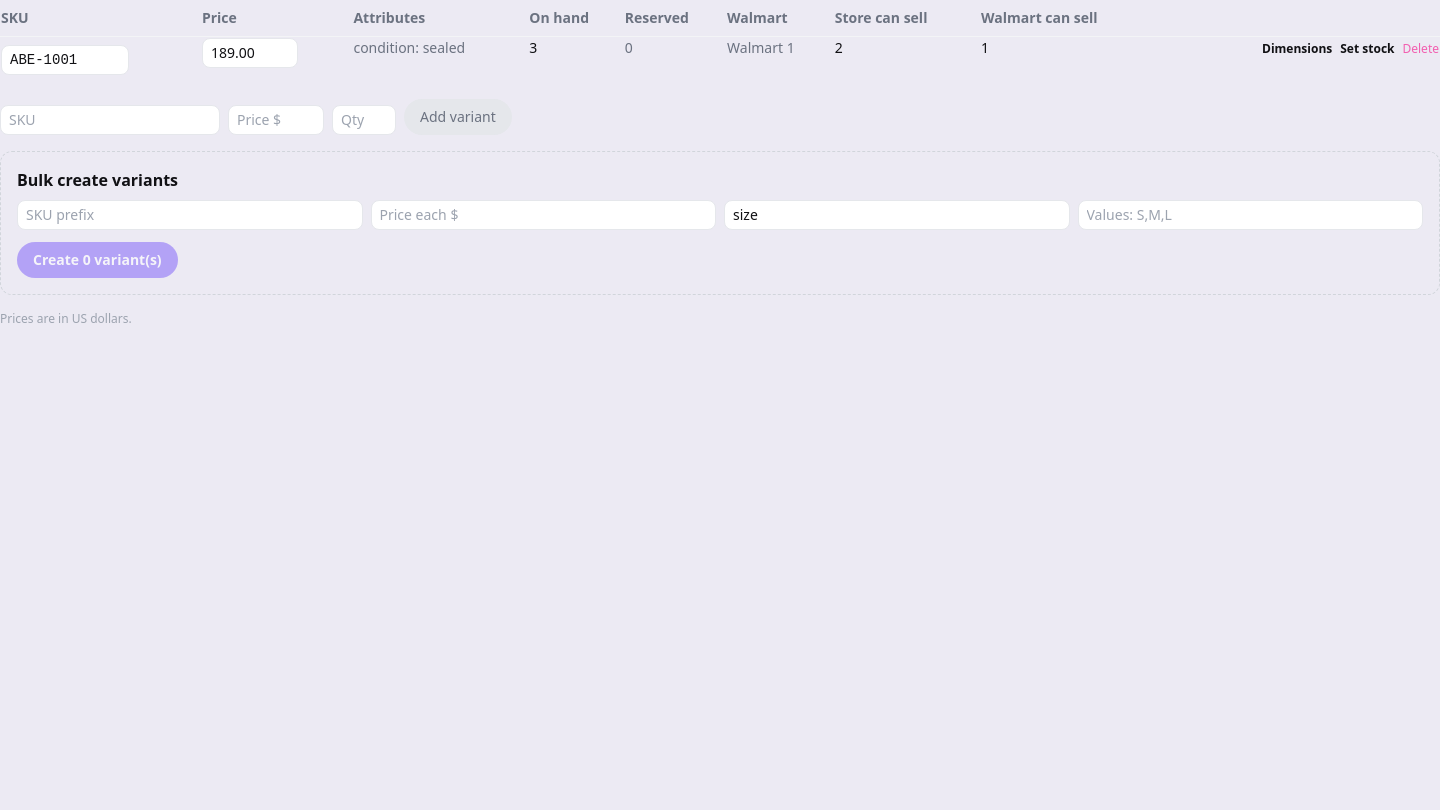
Test: VariantsTab › shows core's full message for STOCK_BELOW_RESERVED, not just the field hint
The width and height of the screenshot is (1440, 810).
Click the button "Set stock": coordinates (1367, 49) [1340,41,1395,57]
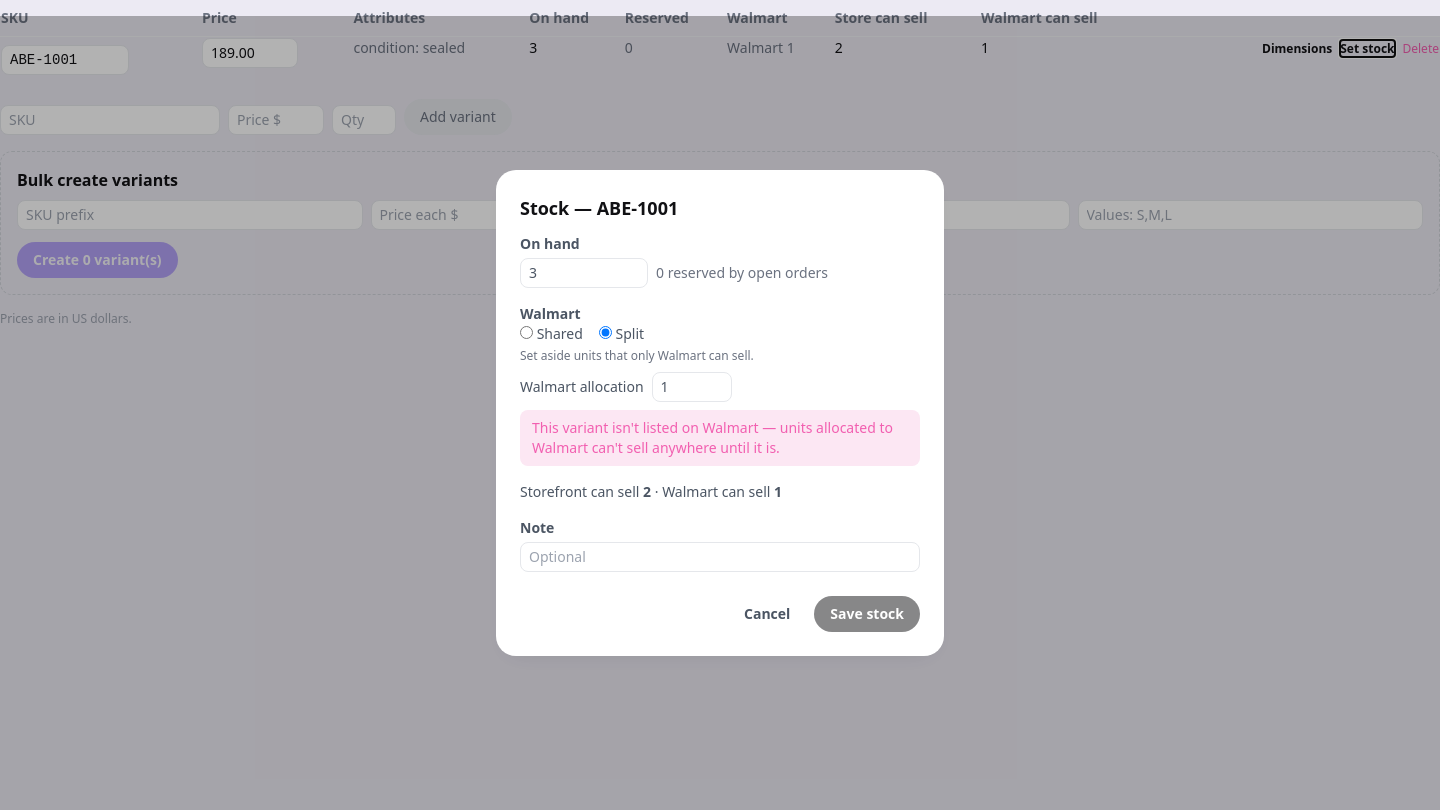
Note: Save stock is disabled until something changes.
Replace the text in the field labelled "On hand" with "1": coordinates (584, 273) [520,258,648,288]
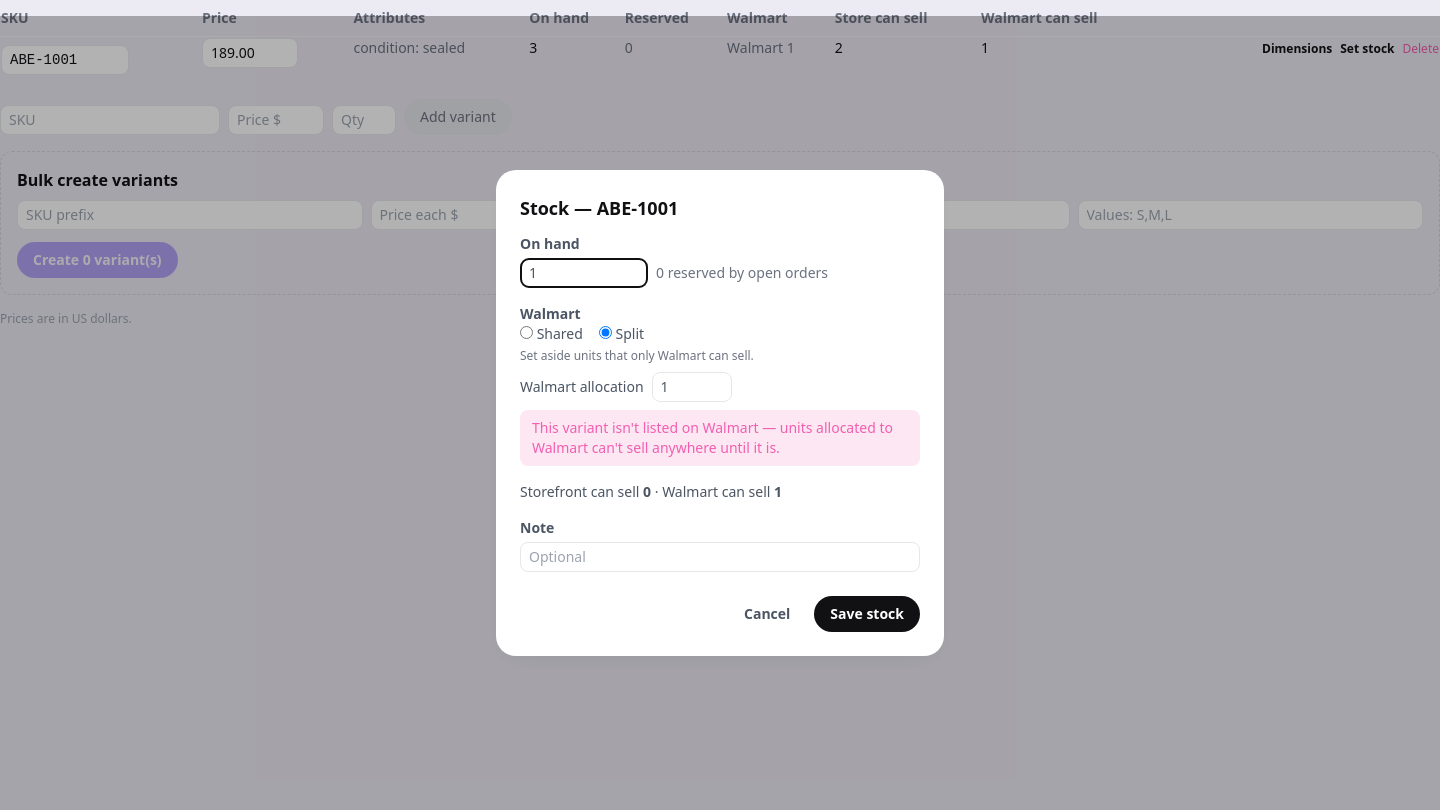
Click the button "Save stock": coordinates (867, 614) [814,596,920,632]
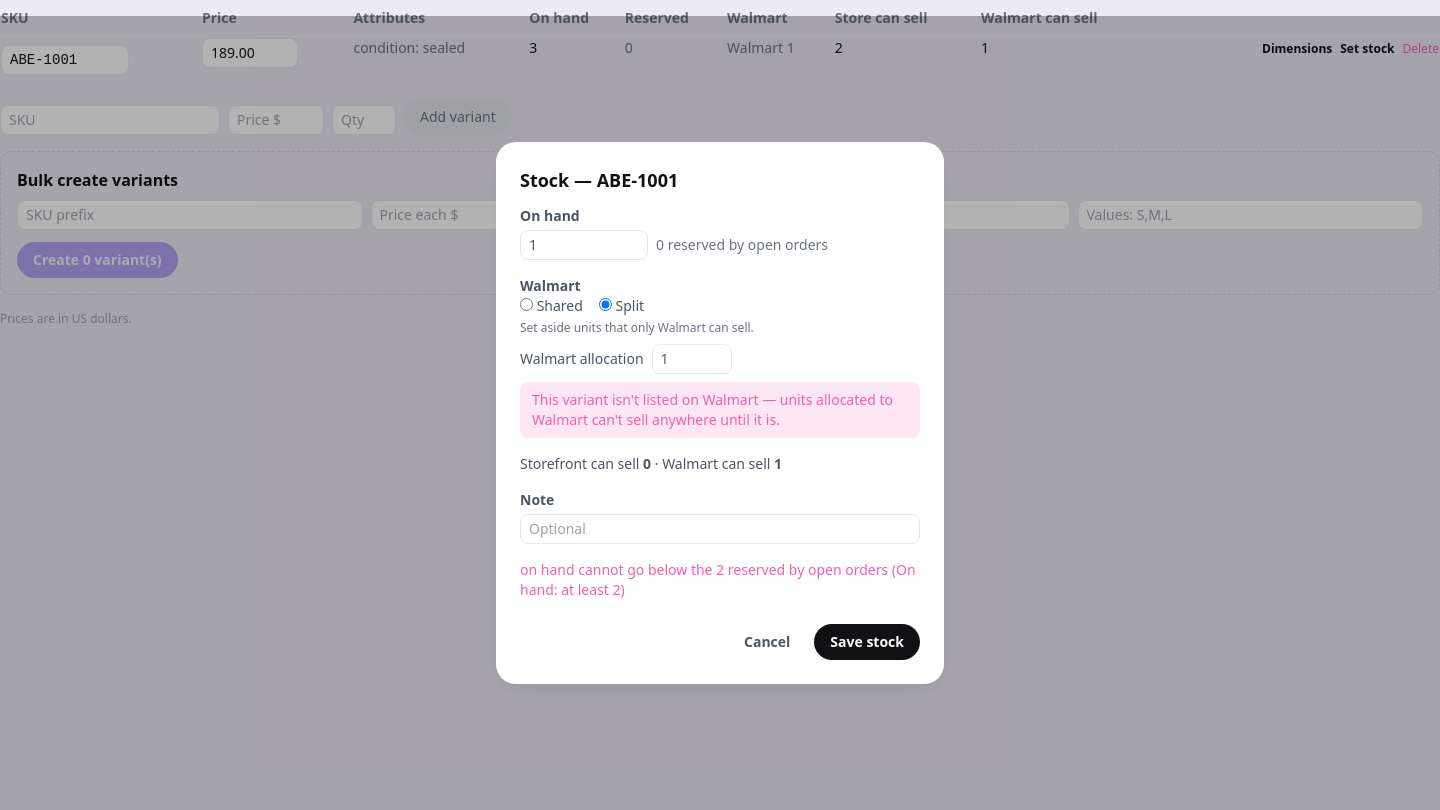
Result: the text "on hand cannot go below the 2 reserved by open orders" is shown at [520,560,916,599]
